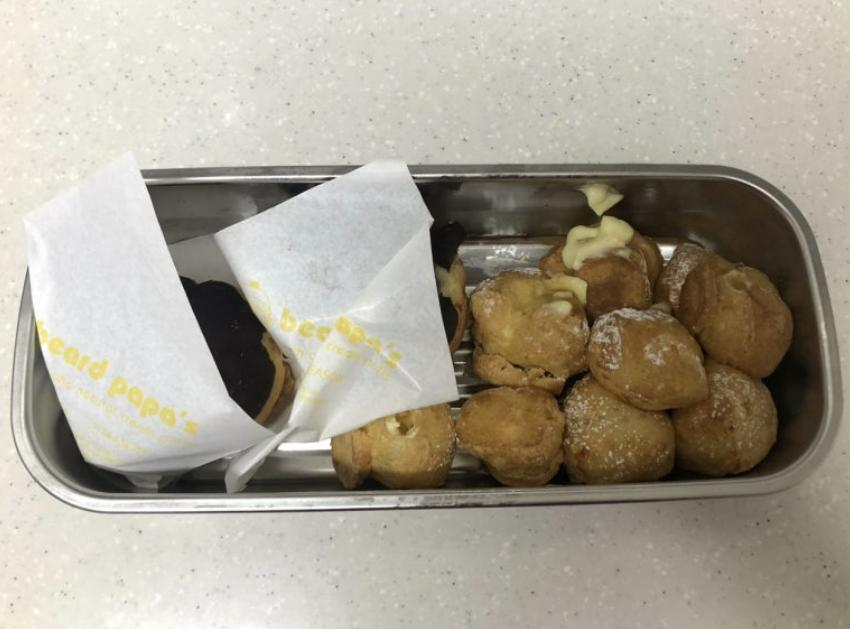Lunch Box: (12, 155, 842, 511)
